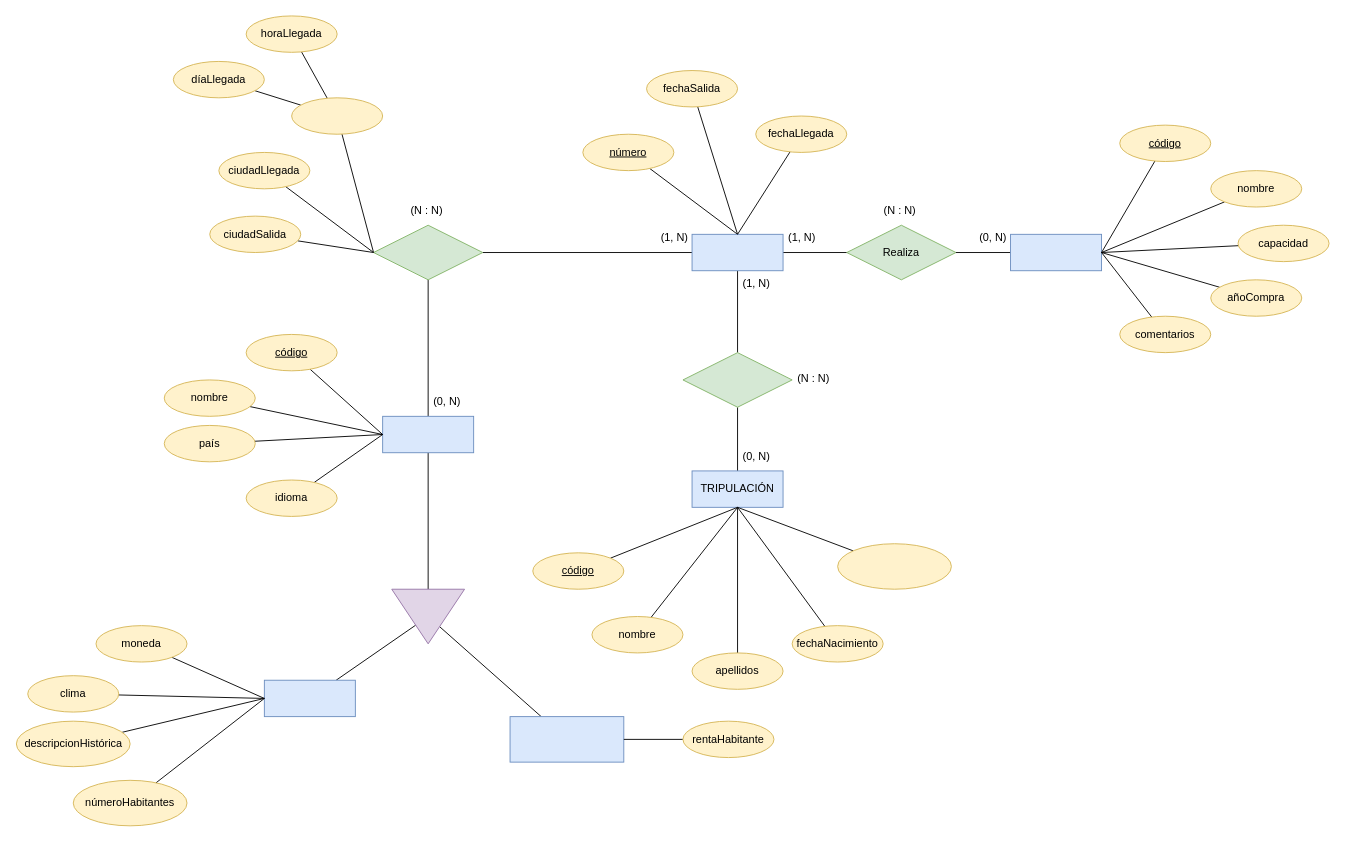
The diagram is 1345 pixels wide and 842 high, and some of its shapes have lost their labels. The shapes that lost their labels are listed below. From the top down, each one's centre as x and y in pixels, then its label:
the point at 337,115: ciudadEscala
the point at 428,252: Van por
the point at 737,252: VIAJES
the point at 1056,252: CRUCEROS
the point at 737,379: Tiene
the point at 428,434: CIUDADES
the point at 894,566: ciudadNacimiento
the point at 309,698: PORTUARIA
the point at 566,739: NO_PORTUARIA
